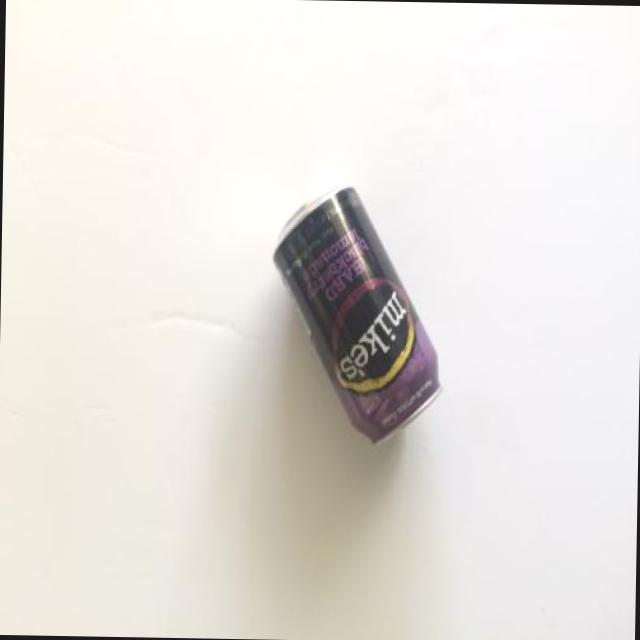kim_loai: (273, 188, 437, 442)
